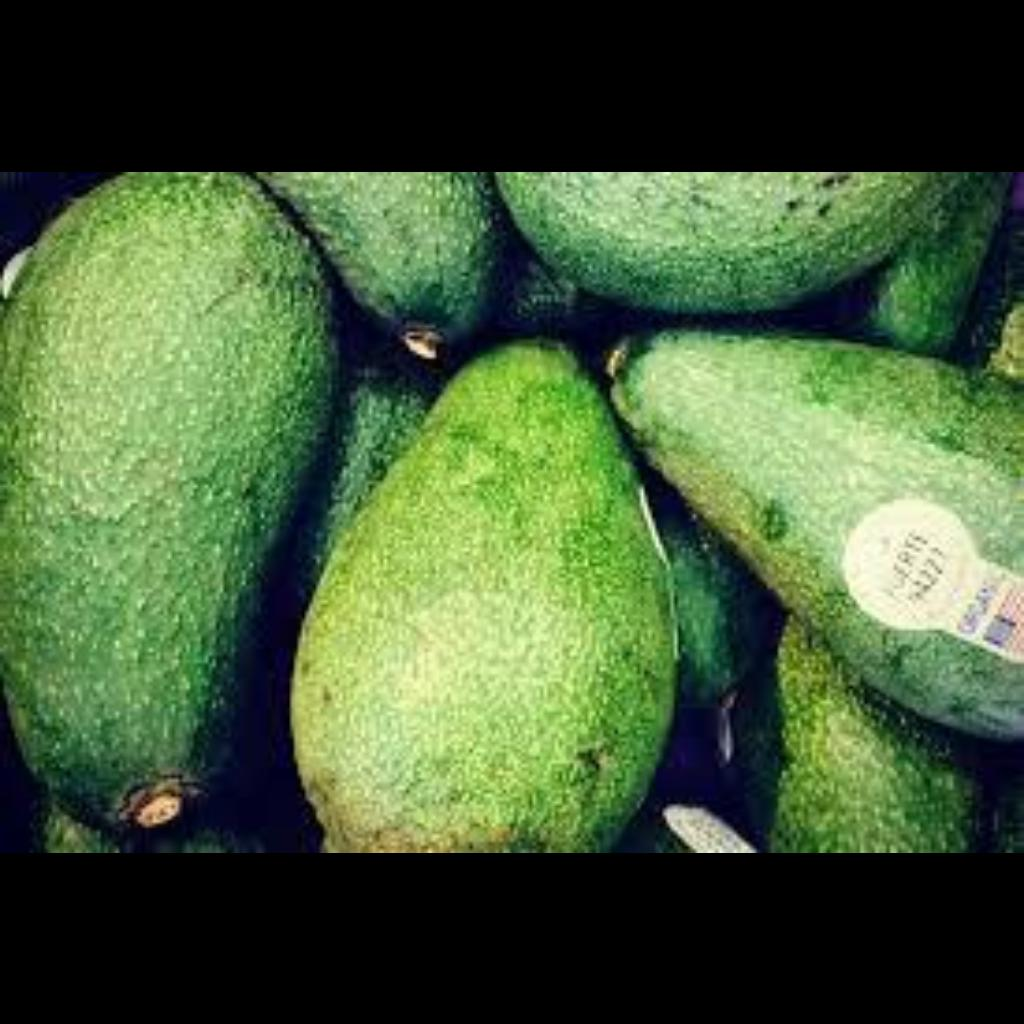cercospora: (436, 357, 972, 834)
